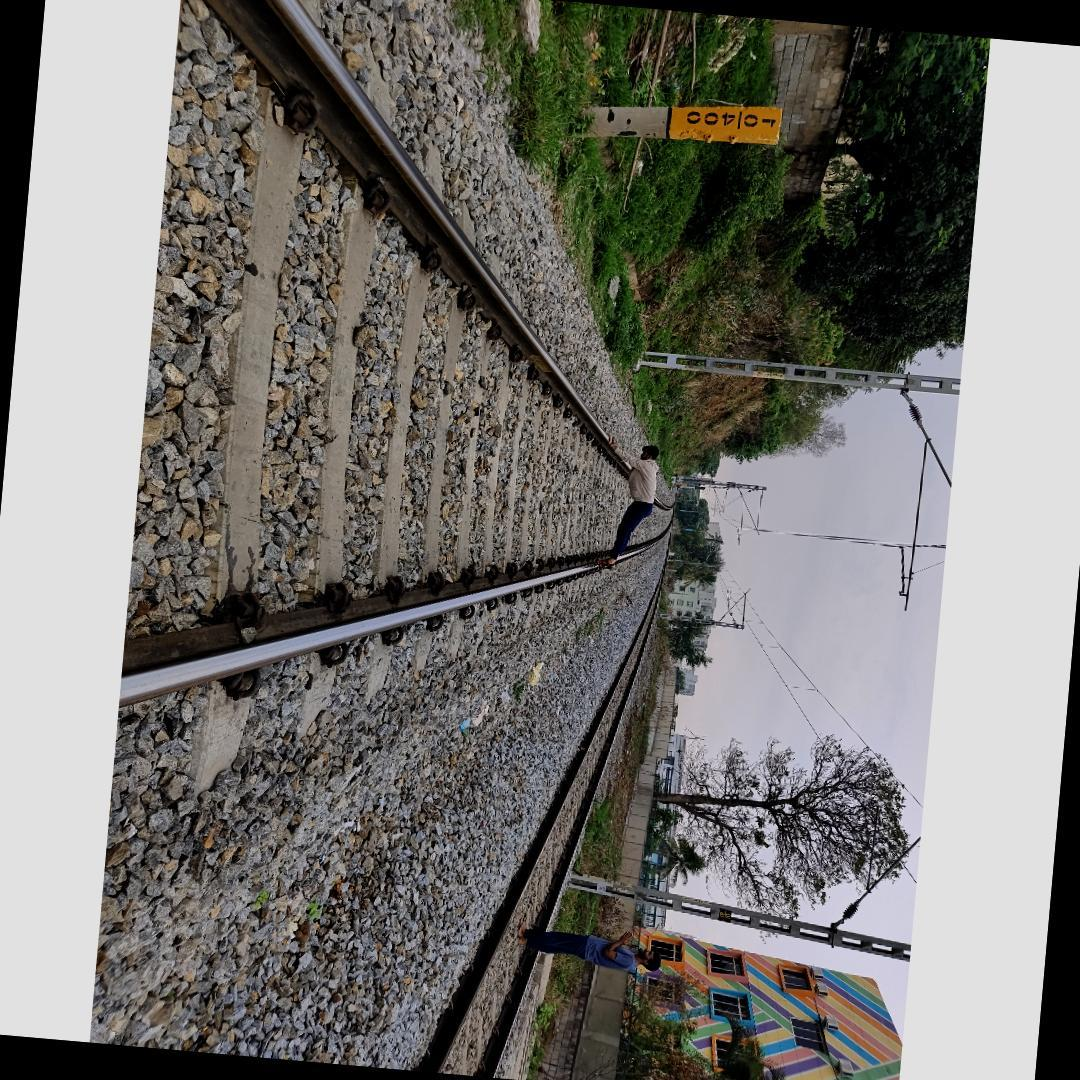sleeping: (596, 436, 663, 572)
standing: (515, 918, 664, 976)
track: (123, 0, 678, 718), (407, 546, 670, 1078)
